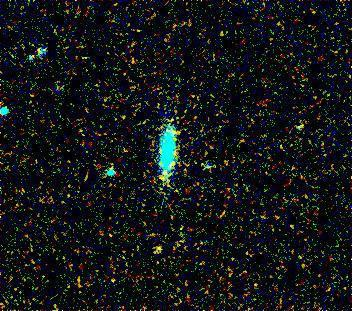star: (141, 227, 171, 257)
